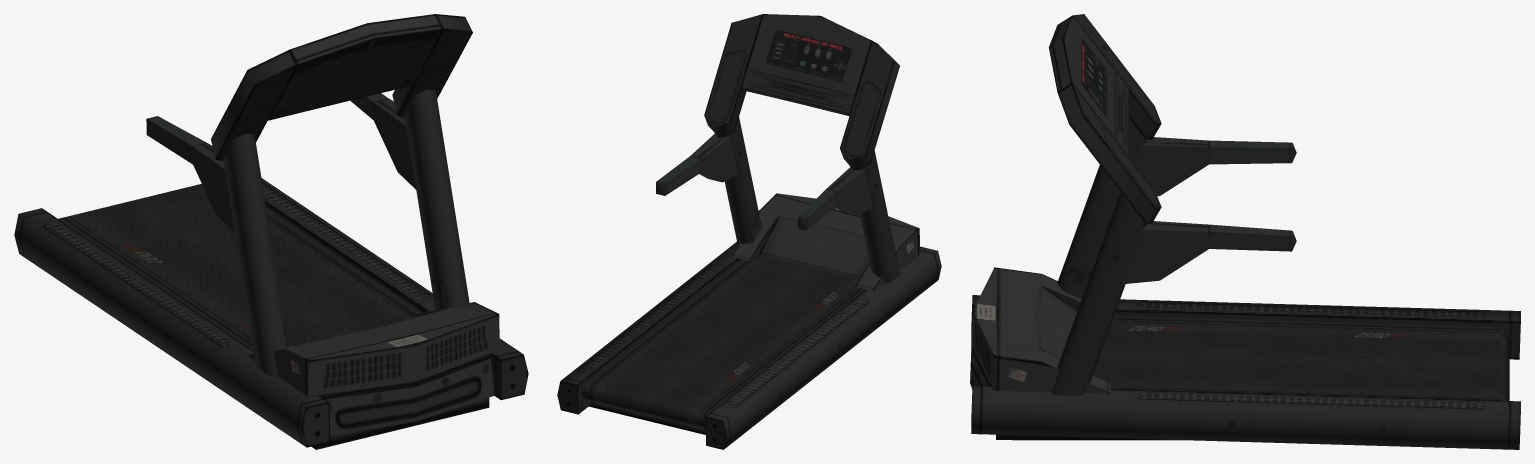
Rendered from treadmill_lod1.glb.
3 renders of one model, left to right at view 1: azimuth 30°, elevation 25°; view 2: azimuth 150°, elevation 25°; view 3: azimuth 270°, elevation 25°, orthographic. The views are drawn at different scales.
Parts seen in each view (by area): view 1: surf0; view 2: surf0; view 3: surf0.
Boxes of the visible parts, x1,y1,x2,y2 form: surf0: (14,14,528,449); surf0: (557,14,941,449); surf0: (970,14,1520,449).
Bounding box in the file's own units: 41.76 × 66.89 × 92.23.
